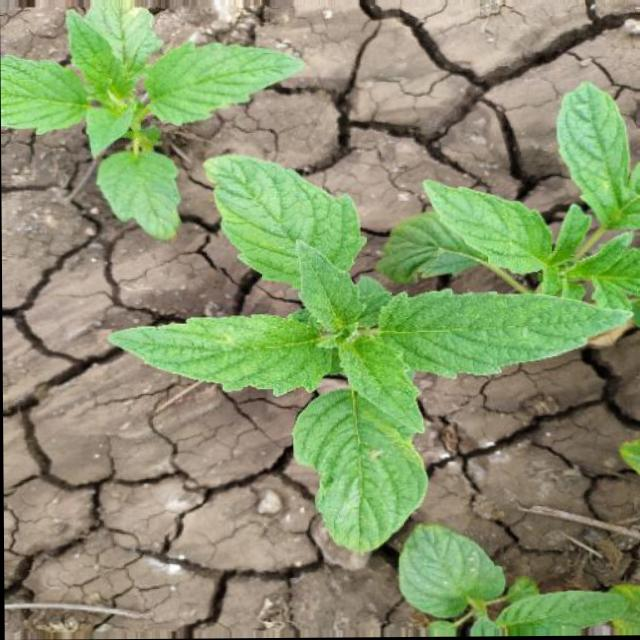crop: (108, 149, 617, 559), (5, 3, 299, 247), (400, 88, 640, 335)
